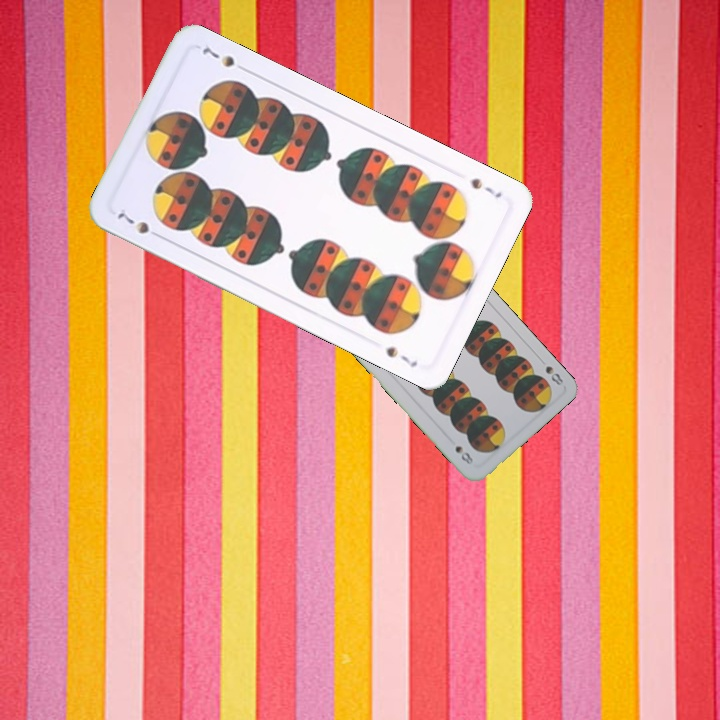S7: (113, 208, 165, 242), (467, 174, 505, 201)
S8: (535, 354, 566, 388)
